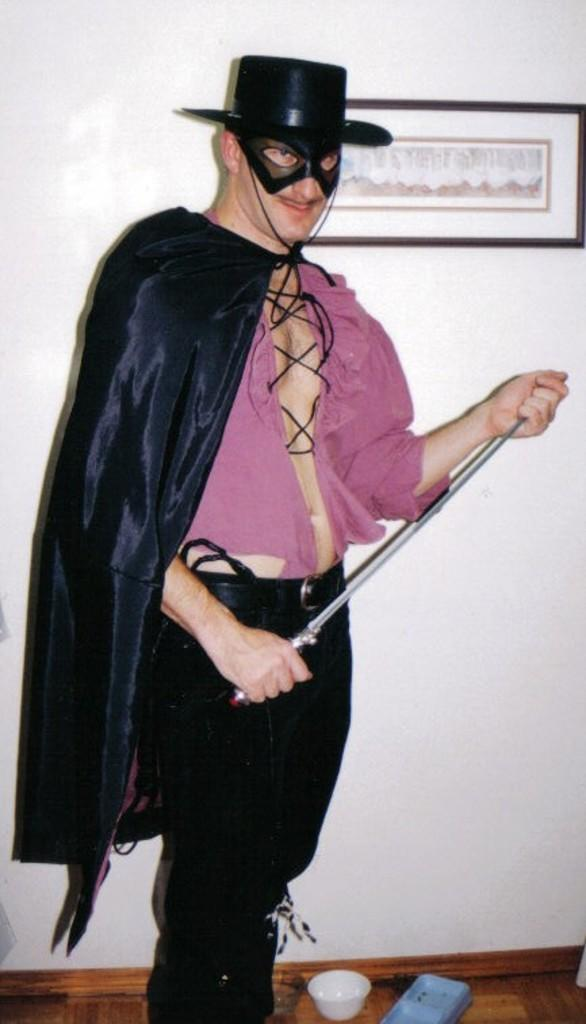Hat: (182, 51, 390, 254)
